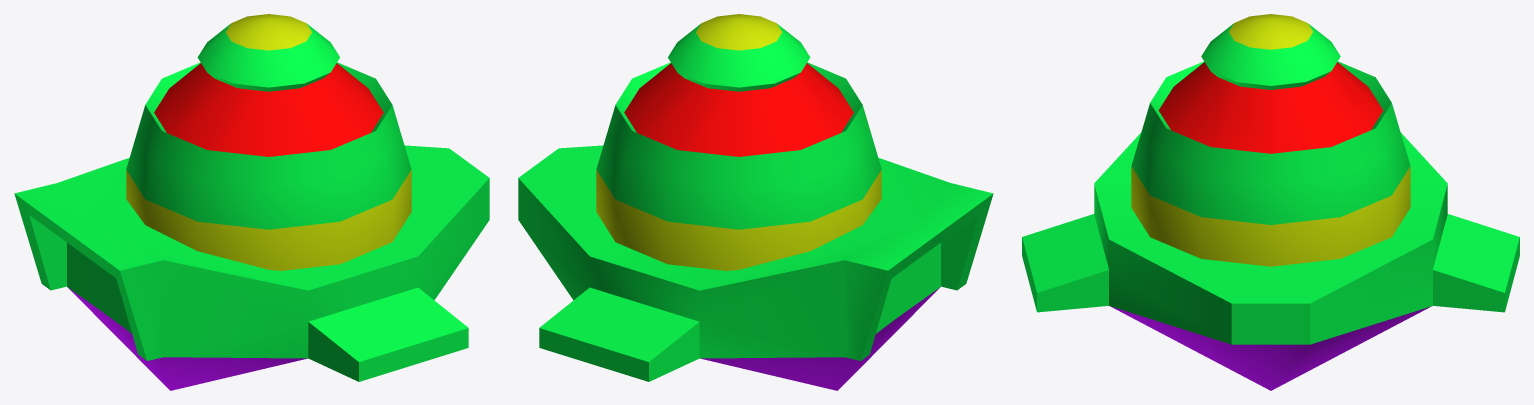
Rendered from Enemy_Bomber_Old.FBX.
3 views of the same model, side by side, from view 1: azimuth 30°, elevation 25°; view 2: azimuth 150°, elevation 25°; view 3: azimuth 270°, elevation 25° (orthographic). The views are drawn at different scales.
Visible parts, largest first — view 1: Enemy_Bomber; view 2: Enemy_Bomber; view 3: Enemy_Bomber.
Part boxes in pixels (left/top/right/bottom): Enemy_Bomber: left=14, top=14, right=489, bottom=390; Enemy_Bomber: left=518, top=14, right=993, bottom=390; Enemy_Bomber: left=1022, top=14, right=1519, bottom=390.
Size of the model in its own units: 19.37 by 15.9 by 21.21.
